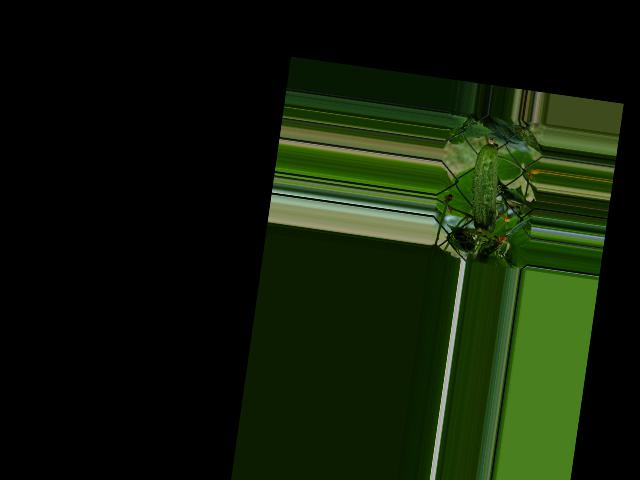cucumber: (465, 136, 506, 237)
